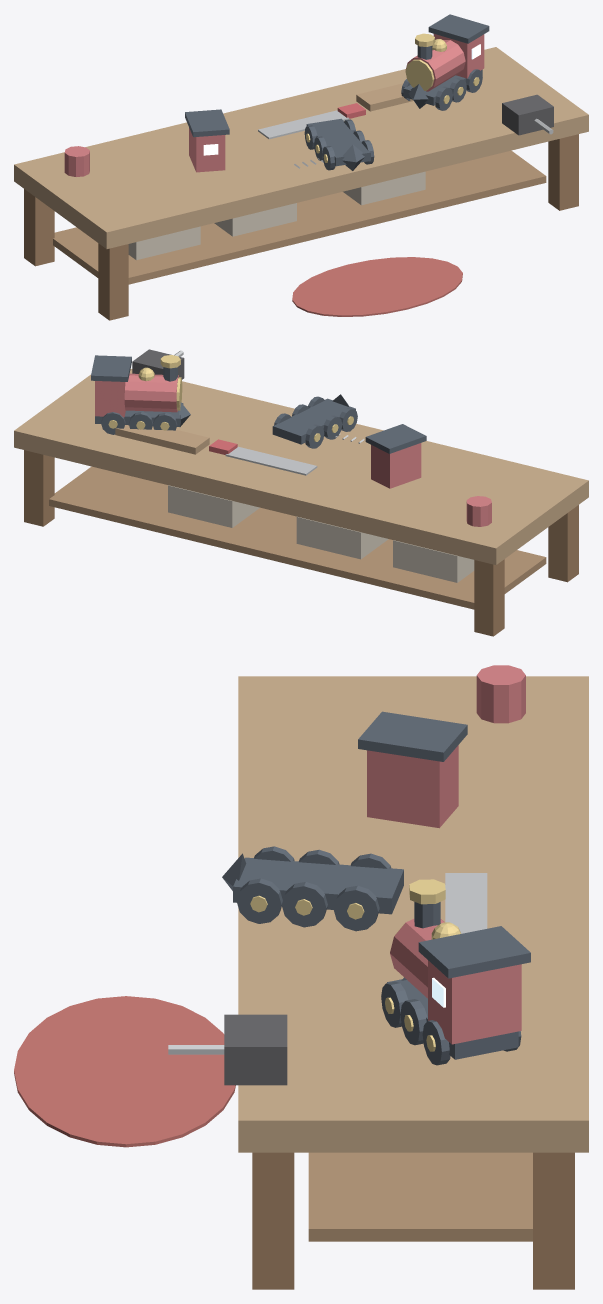
The model's file is prop_npc_bench.glb.
The picture shows the model from 3 angles, top to bottom: view 1: azimuth 30°, elevation 25°; view 2: azimuth 150°, elevation 25°; view 3: azimuth 270°, elevation 25°; orthographic projection. The views are drawn at different scales.
Visible parts, largest first — view 1: Top, Lower shelf, Work mat, Chassis, Leg.-1.-1, Parts box.0, Paint pot, Vice body, Hub.-0.15.-1, Vice screw, Plank offcut; view 2: Top, Lower shelf, Chassis, Parts box.0, Leg.-1.-1, Paint pot, Plank offcut, Vice screw, Hub.-0.15.-1, Vice body; view 3: Top, Work mat, Chassis, Lower shelf, Paint pot, Leg.-1.-1, Vice body, Vice screw, Hub.-0.15.-1.
Part boxes in pixels (left/top/right/bottom): Top: left=14, top=47, right=588, bottom=248; Lower shelf: left=53, top=150, right=546, bottom=284; Work mat: left=292, top=257, right=462, bottom=316; Chassis: left=185, top=14, right=489, bottom=170; Leg.-1.-1: left=24, top=134, right=578, bottom=320; Parts box.0: left=128, top=171, right=425, bottom=260; Paint pot: left=64, top=34, right=484, bottom=176; Vice body: left=502, top=94, right=553, bottom=135; Hub.-0.15.-1: left=306, top=33, right=479, bottom=162; Vice screw: left=258, top=110, right=553, bottom=168; Plank offcut: left=356, top=83, right=413, bottom=111; Top: left=14, top=369, right=588, bottom=564; Lower shelf: left=49, top=466, right=546, bottom=609; Chassis: left=91, top=355, right=426, bottom=453; Parts box.0: left=168, top=485, right=474, bottom=582; Leg.-1.-1: left=24, top=450, right=578, bottom=636; Paint pot: left=95, top=373, right=491, bottom=526; Plank offcut: left=115, top=425, right=209, bottom=454; Vice screw: left=174, top=350, right=364, bottom=475; Hub.-0.15.-1: left=108, top=355, right=353, bottom=441; Vice body: left=132, top=349, right=184, bottom=379; Top: left=238, top=676, right=588, bottom=1152; Work mat: left=14, top=996, right=235, bottom=1147; Chassis: left=222, top=711, right=530, bottom=1065; Lower shelf: left=308, top=1152, right=532, bottom=1241; Paint pot: left=367, top=665, right=525, bottom=1044; Leg.-1.-1: left=252, top=1152, right=574, bottom=1289; Vice body: left=224, top=1014, right=287, bottom=1085; Vice screw: left=168, top=873, right=487, bottom=1054; Hub.-0.15.-1: left=250, top=879, right=461, bottom=1051.
Size of the model in its own units: 3 by 0.955 by 1.64.
